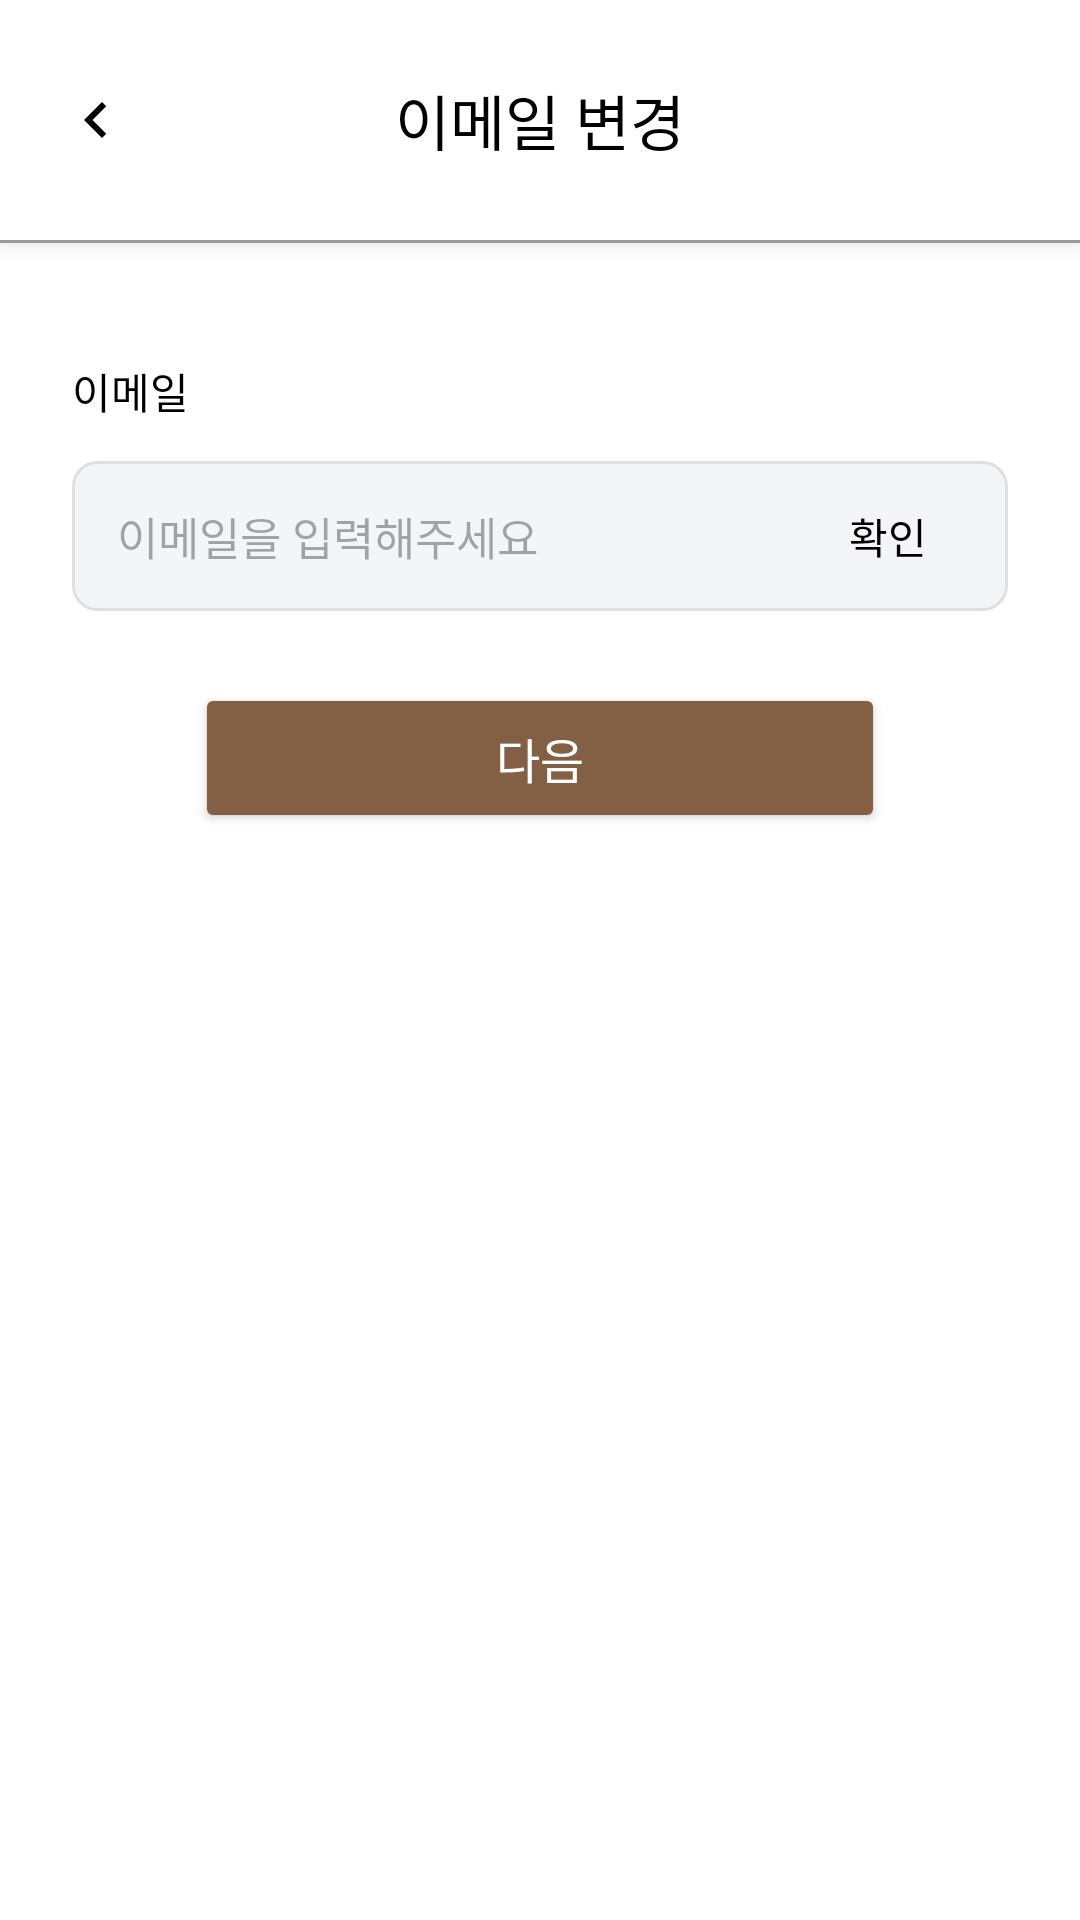

Where to tap for icons on this 1080*1920 app screen, as (x,y):
back: (95,120)
